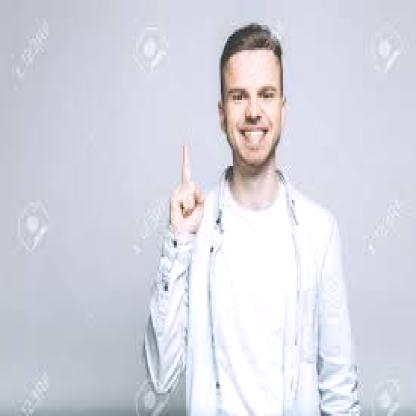Up: (160, 138, 212, 232)
